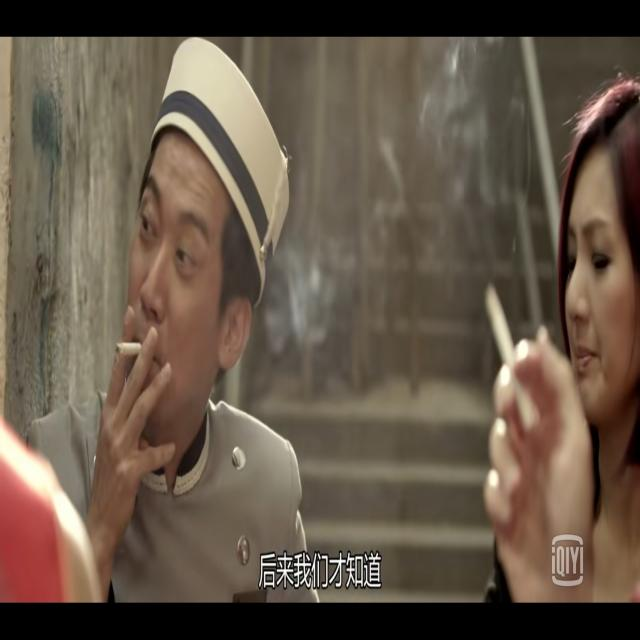cigarette: (478, 278, 520, 372), (109, 330, 142, 370)
